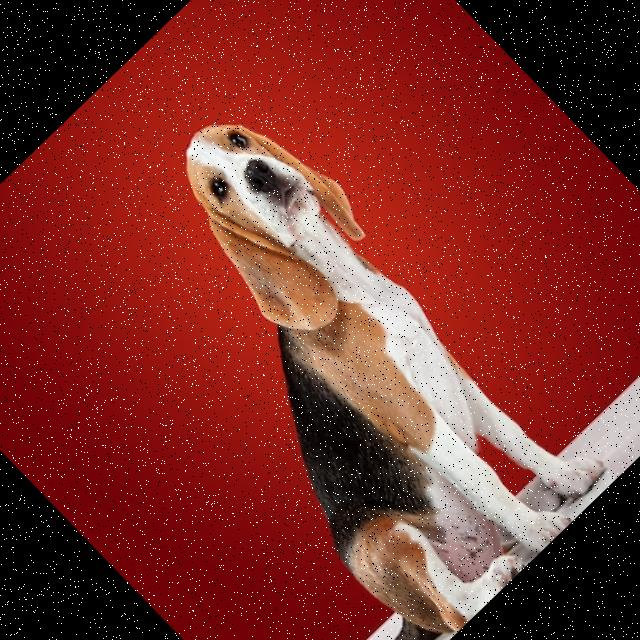Dog: (0, 84, 619, 640)
